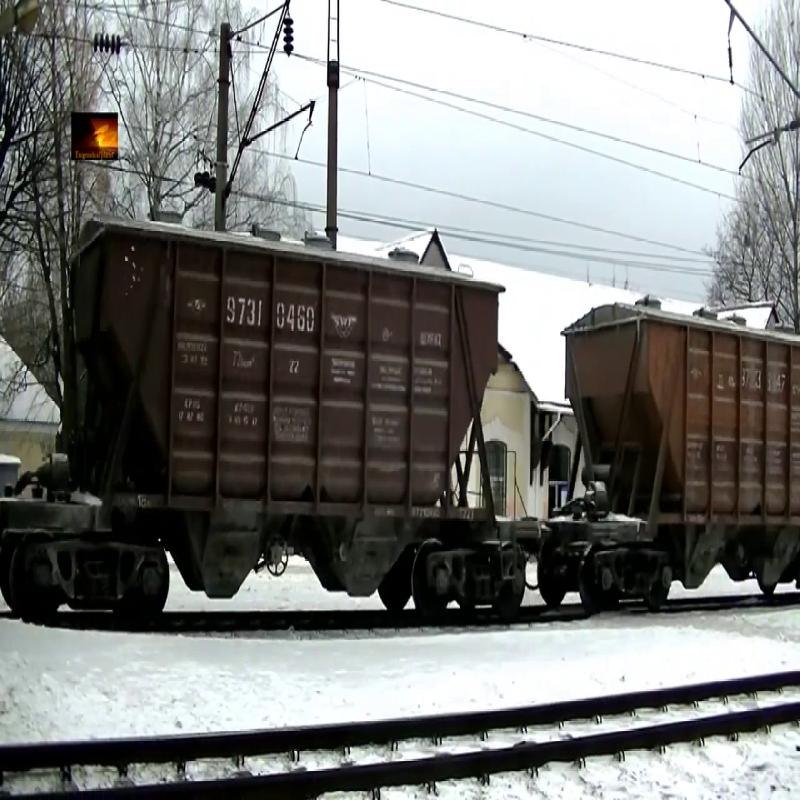train: (25, 213, 540, 628), (567, 302, 791, 649)
